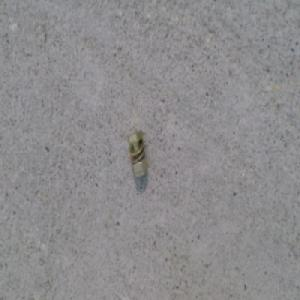BoltNutSet: (127, 132, 149, 183)
